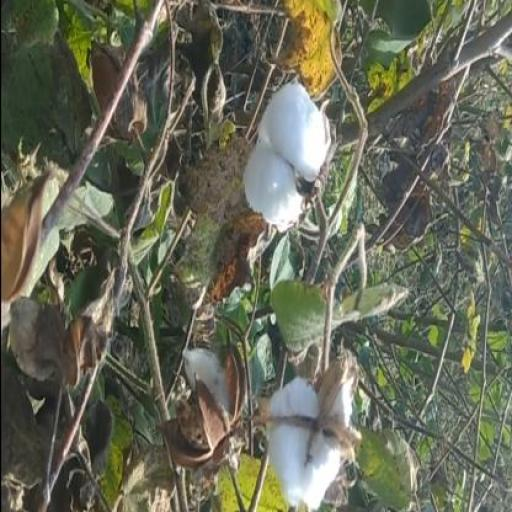cotton_ready: (223, 46, 339, 249), (260, 314, 360, 509)
